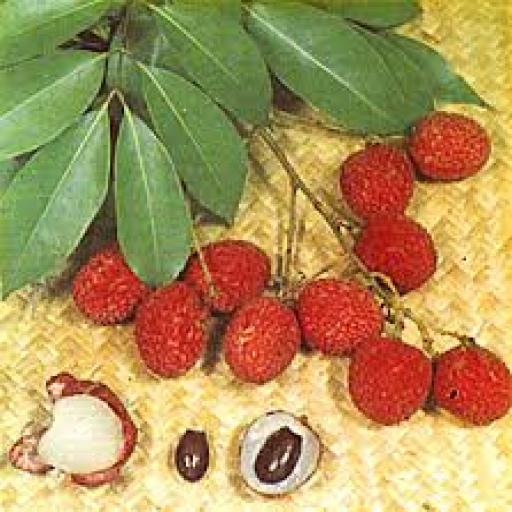lychee: (11, 372, 138, 492), (234, 410, 324, 496), (349, 338, 431, 425), (136, 281, 208, 378), (223, 297, 300, 382), (297, 279, 383, 355), (354, 216, 436, 292), (434, 345, 511, 425), (184, 241, 270, 312), (74, 245, 149, 323), (409, 112, 491, 181), (340, 143, 413, 219)
